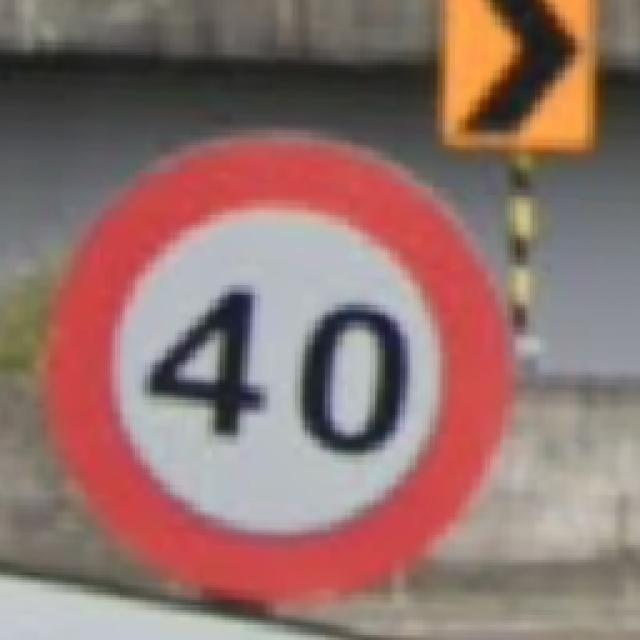Speed Limit -40-: (48, 135, 508, 600)
